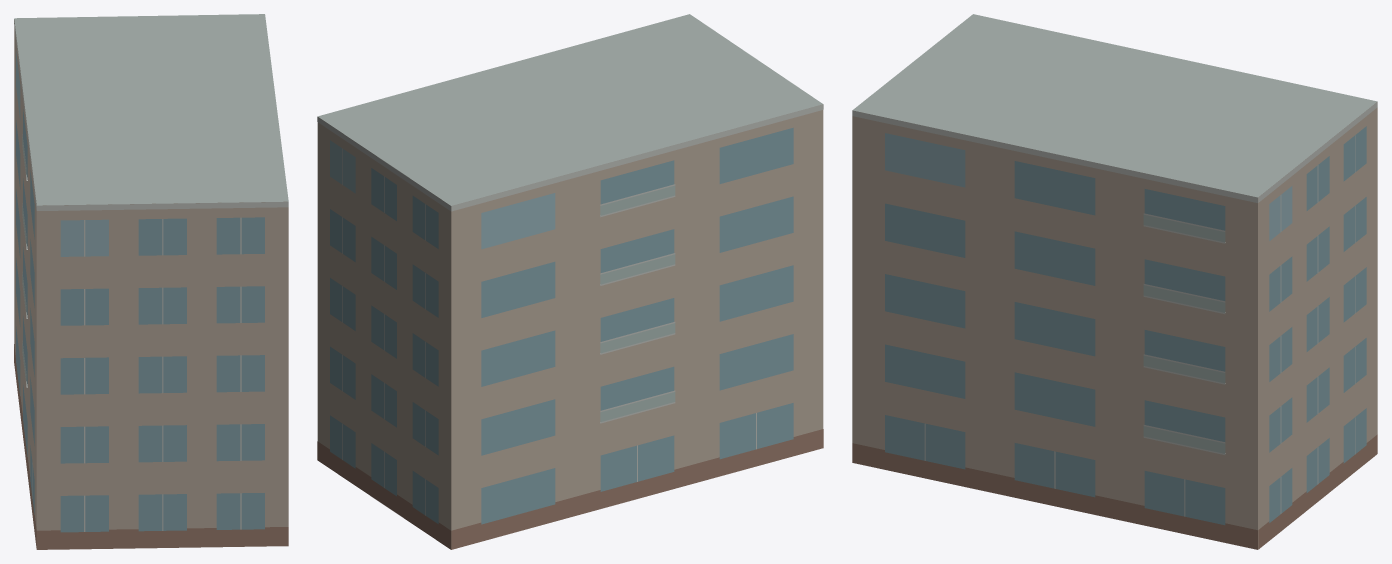
The model's file is survey-upis-32893914.glb.
3 renders of one model, left to right at view 1: azimuth 30°, elevation 25°; view 2: azimuth 150°, elevation 25°; view 3: azimuth 270°, elevation 25°, orthographic. The views are drawn at different scales.
Parts seen in each view (by area): view 1: survey-upis-32893914.tmp; view 2: survey-upis-32893914.tmp; view 3: survey-upis-32893914.tmp.
Part boxes in pixels (x1,y1,x2,y2): survey-upis-32893914.tmp: (14, 14, 288, 549); survey-upis-32893914.tmp: (317, 14, 823, 549); survey-upis-32893914.tmp: (852, 14, 1377, 549).
Size of the model in its own units: 16.76 by 15 by 20.28.
